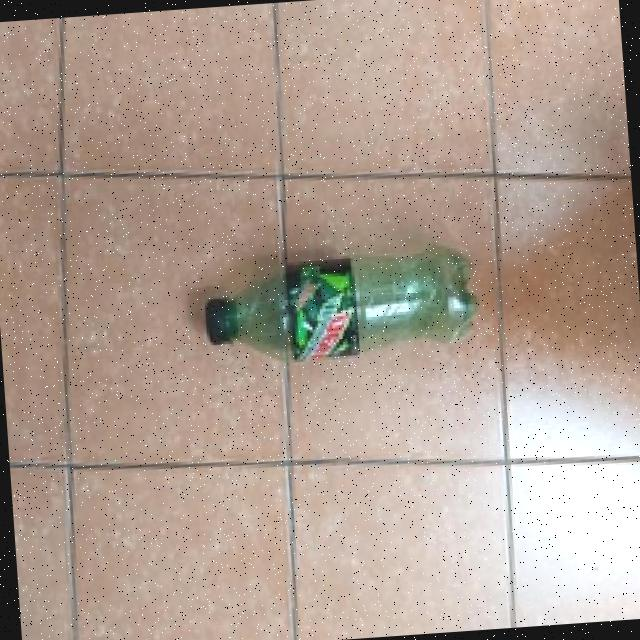bottle: (182, 212, 492, 402)
cap: (196, 290, 241, 348)
label: (276, 244, 365, 372)
